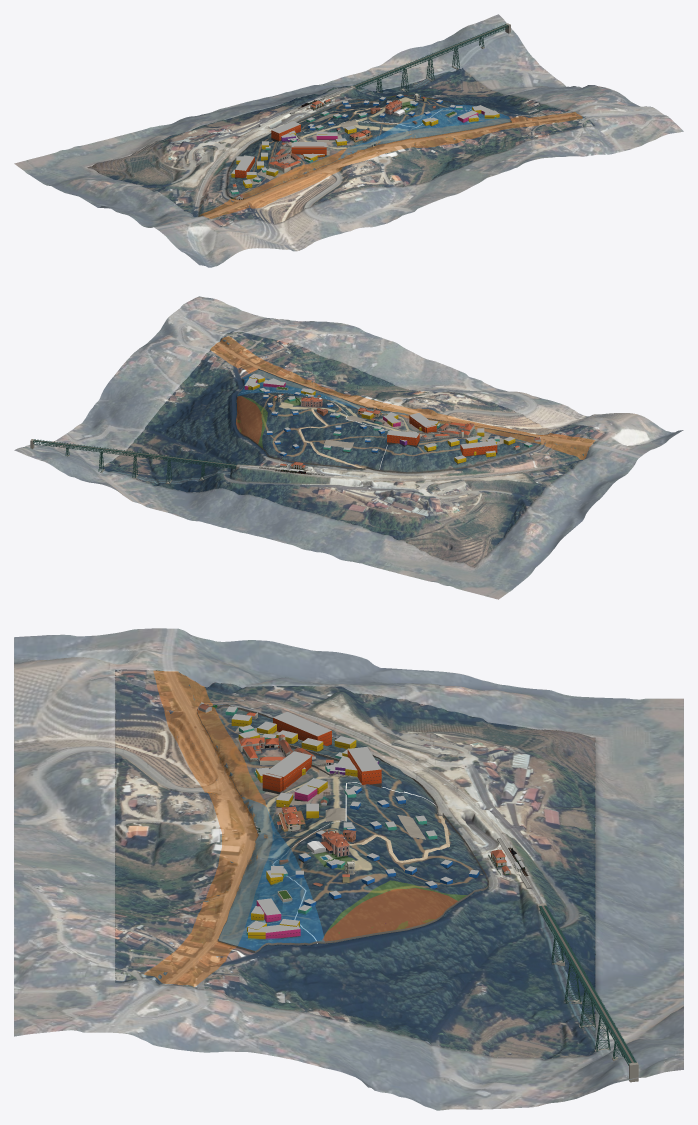
The model's file is vila.glb.
3 renders of one model, top to bottom at view 1: azimuth 30°, elevation 25°; view 2: azimuth 150°, elevation 25°; view 3: azimuth 270°, elevation 25°, orthographic. The views are drawn at different scales.
Parts seen in each view (by area): view 1: base/envolvente, base/terreno, mancha/servidao-en234, mancha/agua-zona-alargada, base/ponte, base/muro; view 2: base/terreno, base/envolvente, mancha/servidao-en234, base/ponte, mancha/espaco-florestal, mancha/agua-zona-alargada, mancha/ren, base/muro, cenario/hotel/fase3/ala-01; view 3: base/terreno, base/envolvente, mancha/servidao-en234, mancha/agua-zona-alargada, mancha/espaco-florestal, mancha/ren, base/ponte, base/muro, cenario/hotel/fase3/ala-01, cenario/misto/fase3/ala-01, cenario/misto/fase3/ala-02.
Part boxes in pixels (x1,y1,x2,y2): base/envolvente: (14,14,683,267); base/terreno: (87,68,594,226); mancha/servidao-en234: (199,112,582,218); mancha/agua-zona-alargada: (338,104,510,159); base/ponte: (350,23,510,92); base/muro: (226,98,511,199); base/terreno: (100,331,606,567); base/envolvente: (14,296,683,599); mancha/servidao-en234: (210,336,595,459); base/ponte: (30,439,239,483); mancha/espaco-florestal: (236,396,267,447); mancha/agua-zona-alargada: (237,369,408,415); mancha/ren: (236,396,262,443); base/muro: (236,369,540,473); cenario/hotel/fase3/ala-01: (460,440,497,456); base/terreno: (115,669,595,1059); base/envolvente: (14,628,683,1110); mancha/servidao-en234: (144,670,272,986); mancha/agua-zona-alargada: (219,797,324,950); mancha/espaco-florestal: (321,880,466,941); mancha/ren: (322,888,457,941); base/ponte: (537,903,638,1082); base/muro: (197,704,488,952); cenario/hotel/fase3/ala-01: (273,711,331,745); cenario/misto/fase3/ala-01: (347,747,381,787); cenario/misto/fase3/ala-02: (266,752,311,790).
Size of the model in its own units: 800 by 109 by 530.
Materials: 72 (2 with a texture image).
